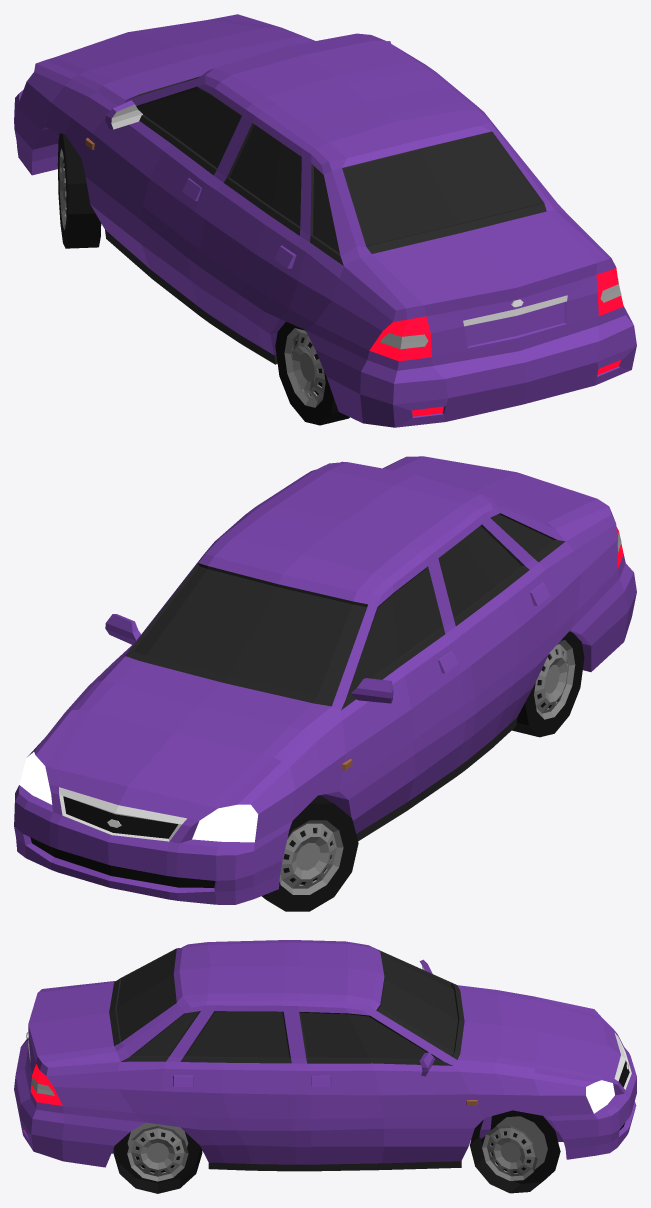
The model's file is priora.glb.
The picture shows the model from 3 angles, top to bottom: view 1: azimuth 30°, elevation 25°; view 2: azimuth 150°, elevation 25°; view 3: azimuth 270°, elevation 25°; orthographic projection. The views are drawn at different scales.
Visible parts, largest first — view 1: Body, Wheel, Wheel.002, Lights2; view 2: Body, Wheel.002, Wheel; view 3: Body, Wheel.003, Wheel.001.
Part boxes in pixels (left/top/right/bottom): Body: left=14, top=14, right=636, bottom=427; Wheel: left=275, top=321, right=349, bottom=425; Wheel.002: left=57, top=133, right=101, bottom=248; Lights2: left=380, top=279, right=621, bottom=349; Body: left=14, top=456, right=636, bottom=904; Wheel.002: left=262, top=795, right=358, bottom=911; Wheel: left=512, top=631, right=584, bottom=737; Body: left=14, top=940, right=636, bottom=1171; Wheel.003: left=469, top=1110, right=560, bottom=1193; Wheel.001: left=113, top=1122, right=202, bottom=1193.
Size of the model in its own units: 1.76 by 1.42 by 4.39.
